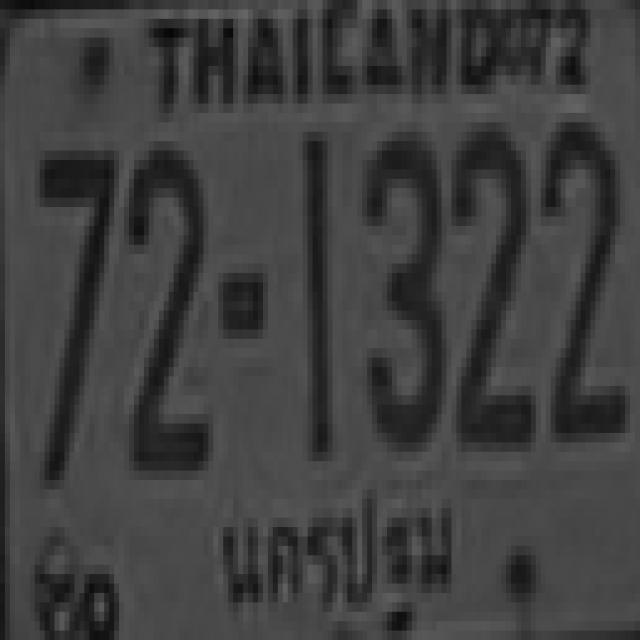1: (302, 132, 328, 452)
2: (449, 118, 528, 438), (124, 141, 203, 461), (546, 113, 620, 433)
3: (362, 122, 442, 442)
7: (35, 141, 114, 480)
NakhonPathom: (213, 470, 451, 640)
